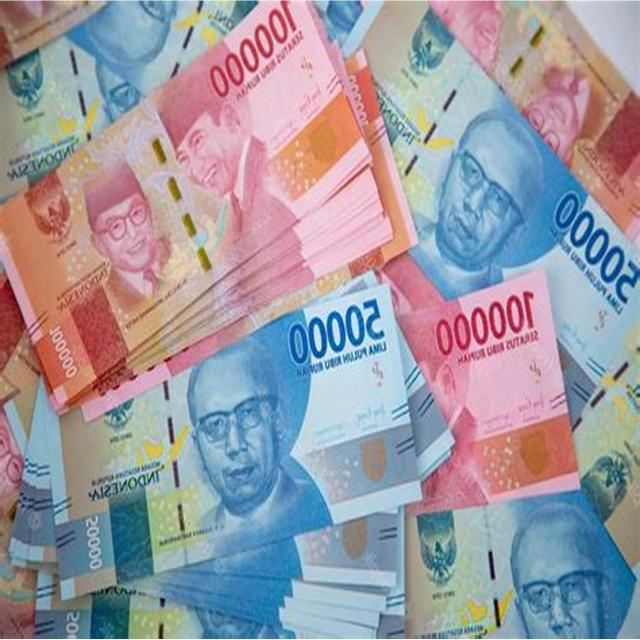lima puluh ribu rupiah: (341, 1, 640, 428), (47, 281, 424, 607)
seratus ribu rupiah: (0, 0, 372, 411), (393, 264, 584, 513)
